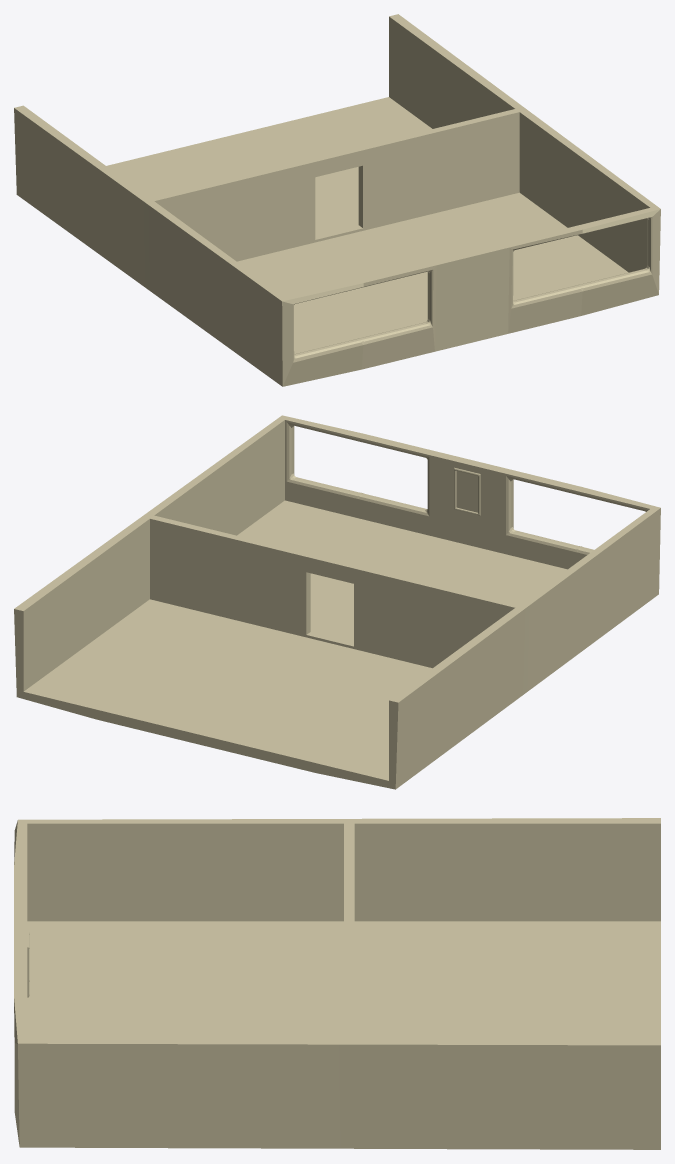
Rendered from FastFood.fbx.
3 renders of one model, top to bottom at view 1: azimuth 30°, elevation 25°; view 2: azimuth 150°, elevation 25°; view 3: azimuth 270°, elevation 25°, orthographic. The views are drawn at different scales.
Parts seen in each view (by area): view 1: Plane; view 2: Plane; view 3: Plane.
Part boxes in pixels (<box>): Plane: <box>14,14,660,386</box>; Plane: <box>14,415,660,789</box>; Plane: <box>14,818,660,1149</box>.
Bounding box in the file's own units: 4485 × 1009 × 5395.
